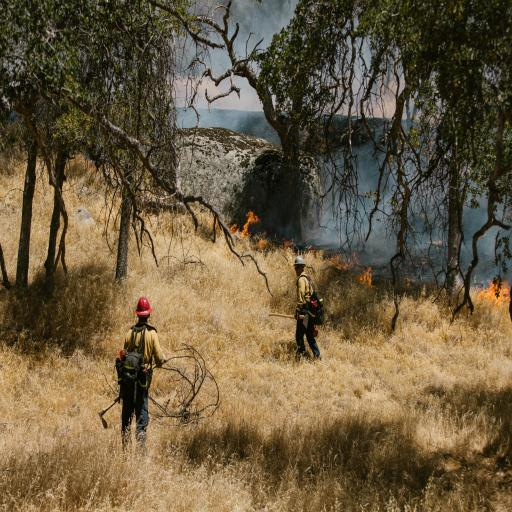wildfire: (84, 4, 512, 471)
